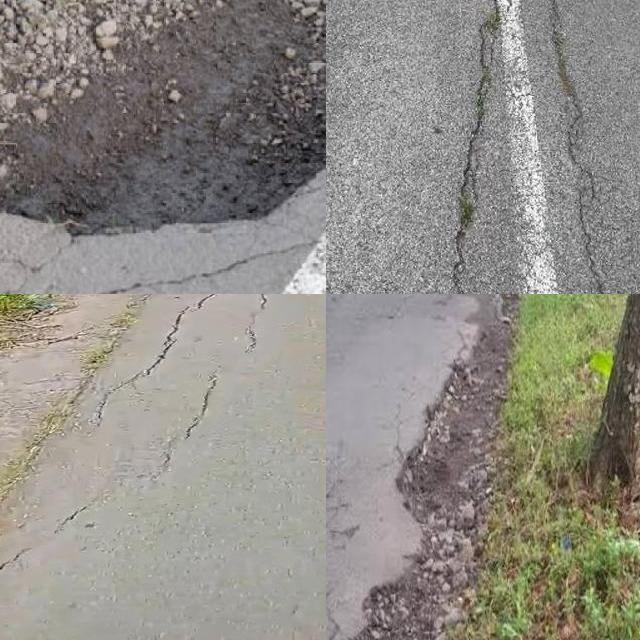Memanjang: (538, 0, 626, 294), (442, 0, 521, 294)
Pinggir: (0, 0, 326, 258), (338, 309, 496, 640), (0, 294, 229, 418)
